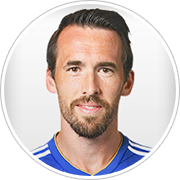smile: (75, 102, 104, 116)
